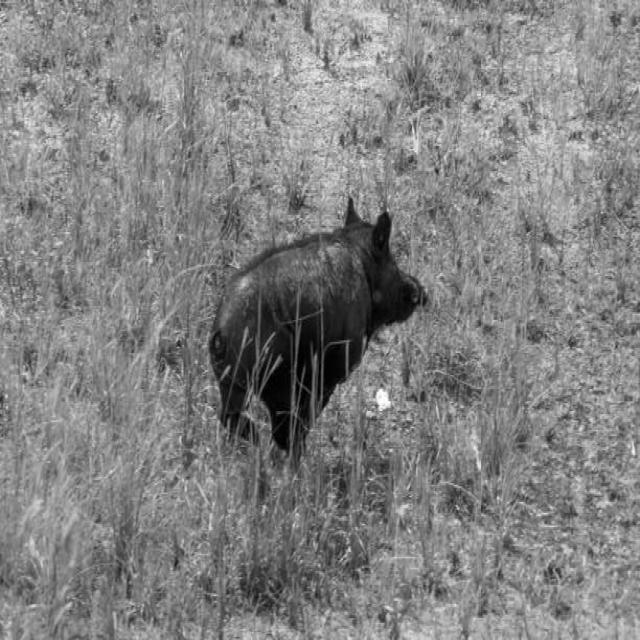boar: (208, 198, 426, 458)
